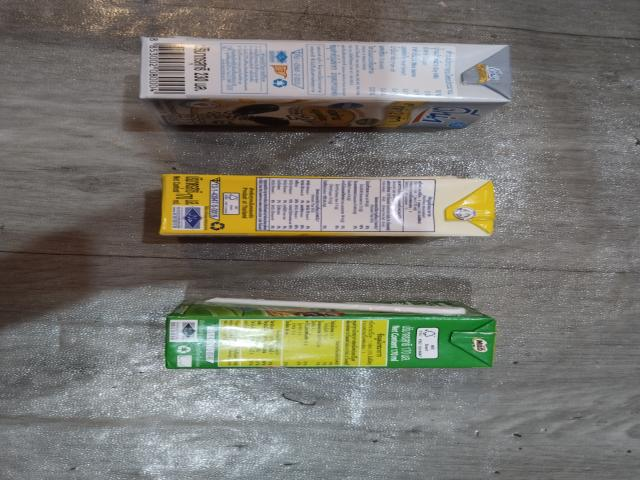drink_box: (136, 27, 527, 140), (132, 165, 530, 253), (155, 291, 515, 375)
